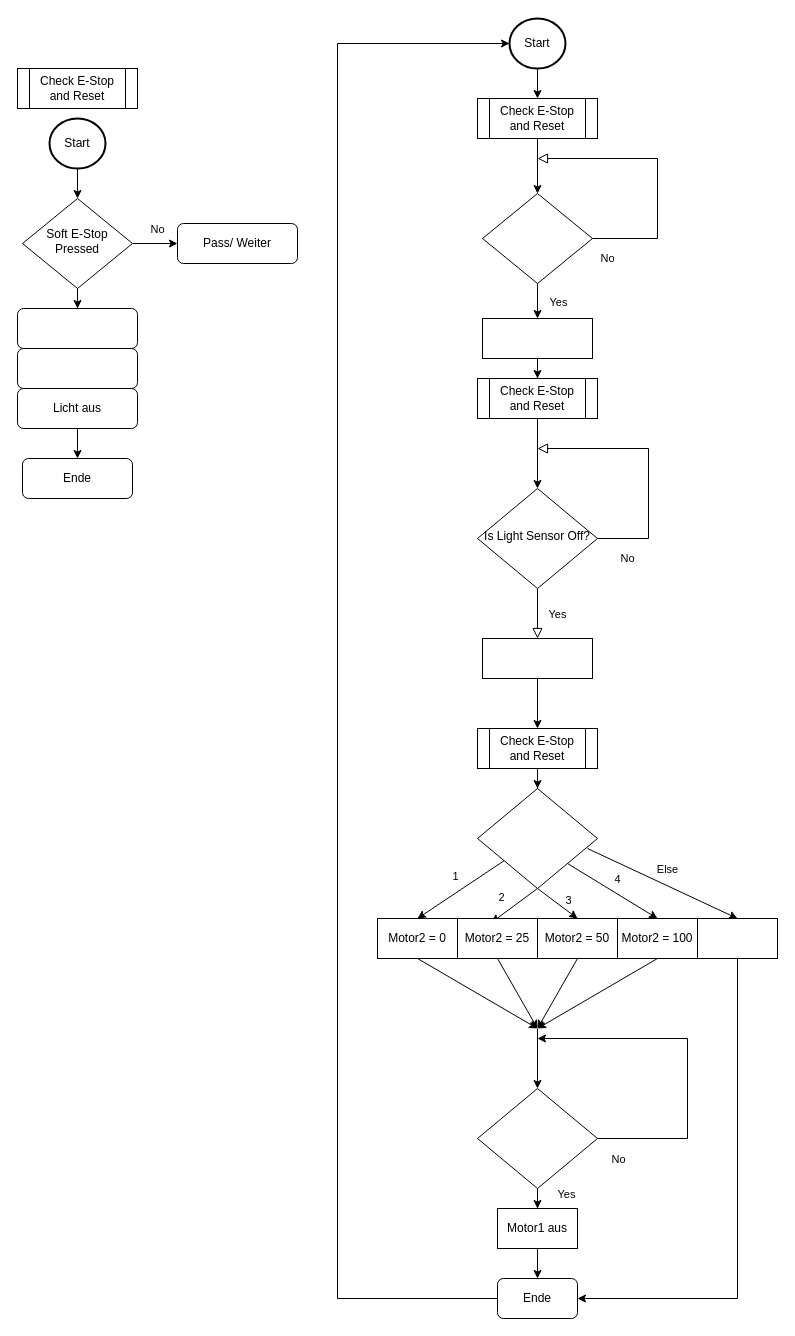
The diagram is 795 pixels wide and 1336 high, and some of its shapes have lost their labels. Here are the shapes that lost their labels. From the top down, the centre of each, then its label:
[537,238]: Is Start Button Pressed?
[77,328]: Motor 1 aus
[537,338]: Licht An
[77,368]: Motor 2 aus
[537,658]: Start Motor1 Licht aus
[537,838]: Welche Zahl steht auf dem Teil?
[737,938]: Motor2 = 300
[537,1138]: Teil an Magazin geliefert?
